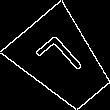L_SE: (33, 32, 91, 90)
